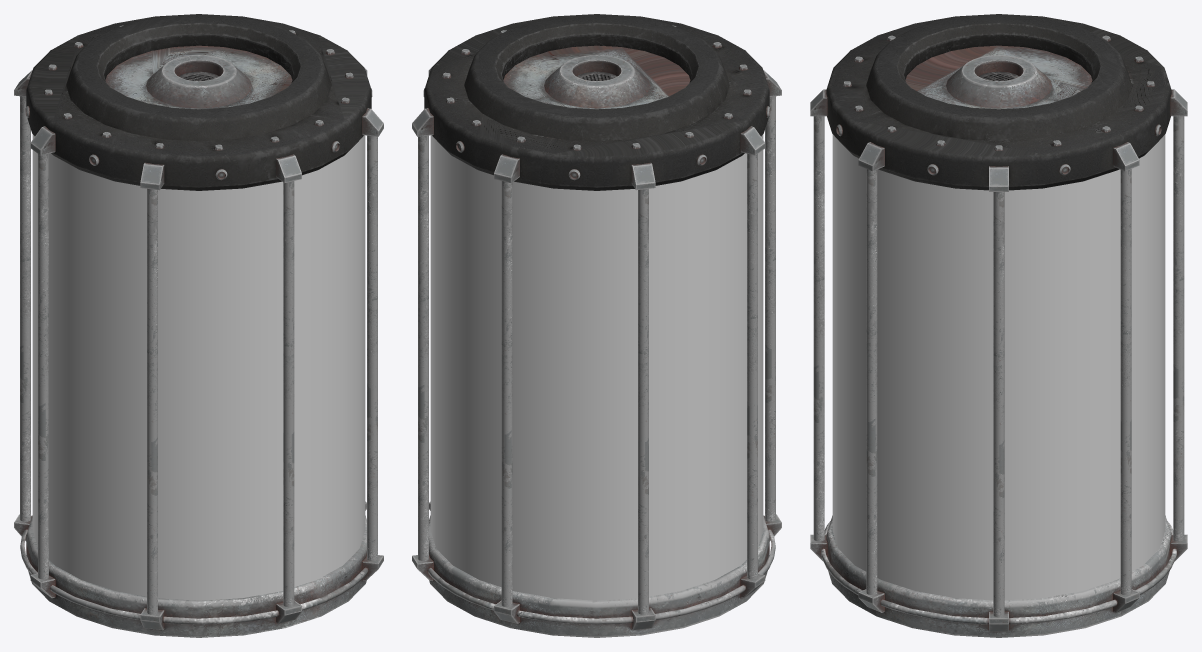
File: Creature Capsule.fbx
The picture shows the model from 3 angles, left to right: view 1: azimuth 30°, elevation 25°; view 2: azimuth 150°, elevation 25°; view 3: azimuth 270°, elevation 25°; orthographic projection.
Visible parts, largest first — view 1: Creature_Tank; view 2: Creature_Tank; view 3: Creature_Tank.
Boxes of the visible parts, box(x1,y1,x2,y2) form: Creature_Tank: box(14, 14, 383, 637); Creature_Tank: box(412, 14, 781, 637); Creature_Tank: box(810, 14, 1187, 637).
Bounding box in the file's own units: 77.39 × 113 × 77.39.
